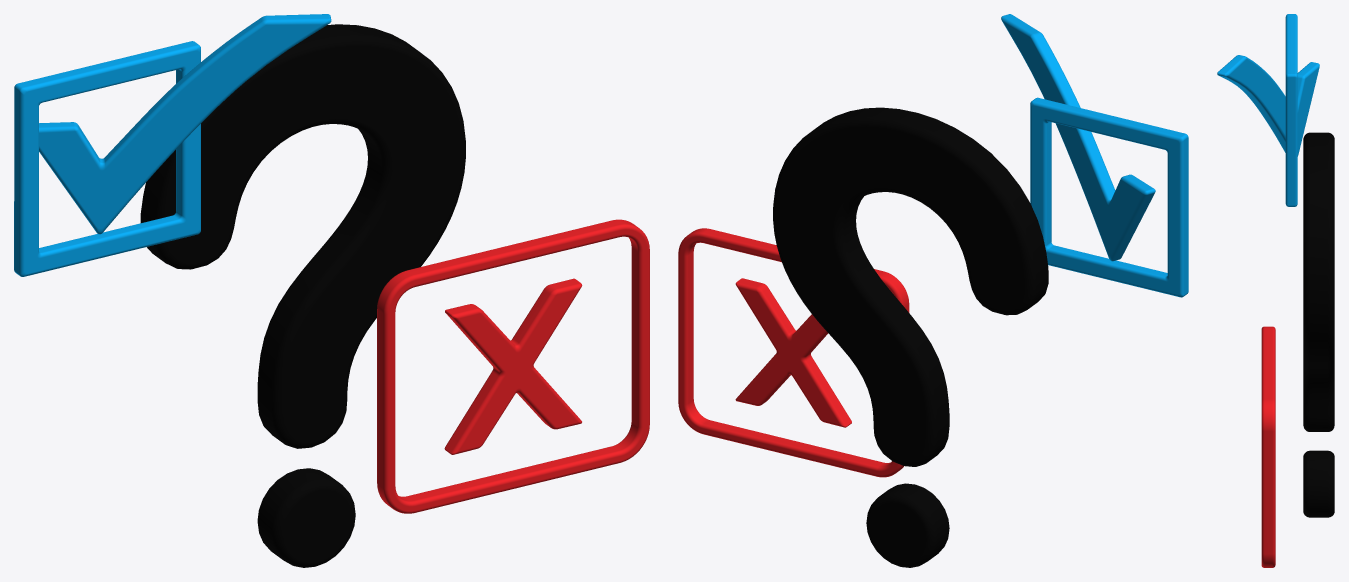
Rendered from games-symbol.fbx.
The picture shows the model from 3 angles, left to right: view 1: azimuth 30°, elevation 25°; view 2: azimuth 150°, elevation 25°; view 3: azimuth 270°, elevation 25°; orthographic projection. The views are drawn at different scales.
Parts seen in each view (by area): view 1: node_id214, node_id70, node_id124; view 2: node_id214, node_id70, node_id124; view 3: node_id214, node_id70, node_id124.
Part boxes in pixels (x1,y1,x2,y2): node_id214: [140, 24, 465, 567]; node_id70: [14, 14, 331, 276]; node_id124: [377, 219, 649, 513]; node_id214: [773, 107, 1048, 567]; node_id70: [1001, 14, 1188, 297]; node_id124: [678, 228, 909, 477]; node_id214: [1303, 132, 1334, 517]; node_id70: [1217, 14, 1319, 206]; node_id124: [1261, 326, 1275, 567].
Size of the model in its own units: 1.18 by 1.12 by 0.2796.
3 materials, 3 textured.
